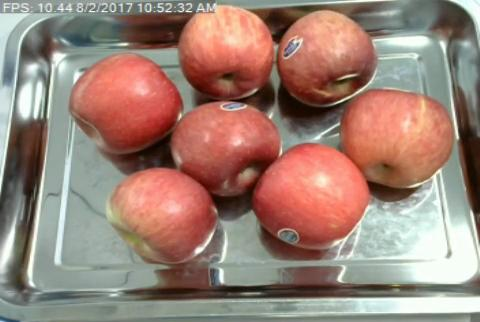apple: (256, 144, 370, 249), (69, 52, 181, 154), (341, 90, 453, 185), (106, 168, 216, 263), (278, 10, 376, 105), (173, 102, 276, 192), (179, 12, 272, 99)
